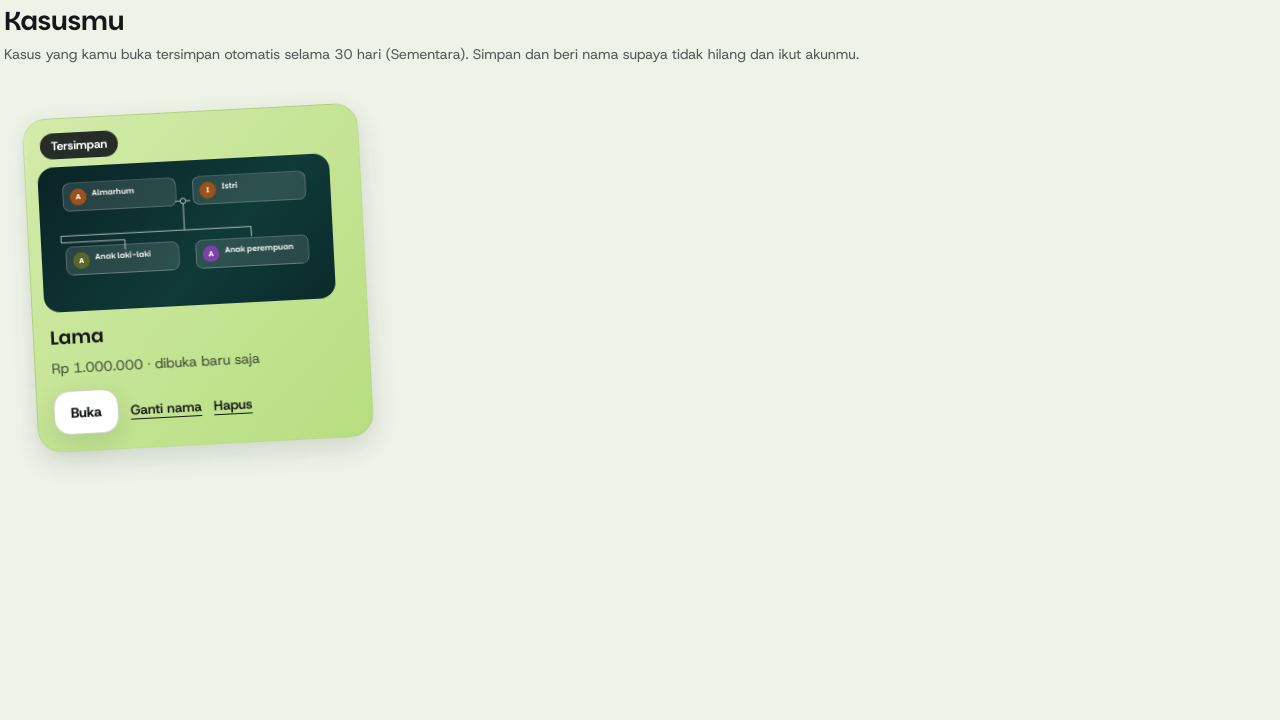
Test: Ganti nama kasus tersimpan
Click the button with aria-label "Ganti nama Lama" at (166, 408), box [130,387,203,430]
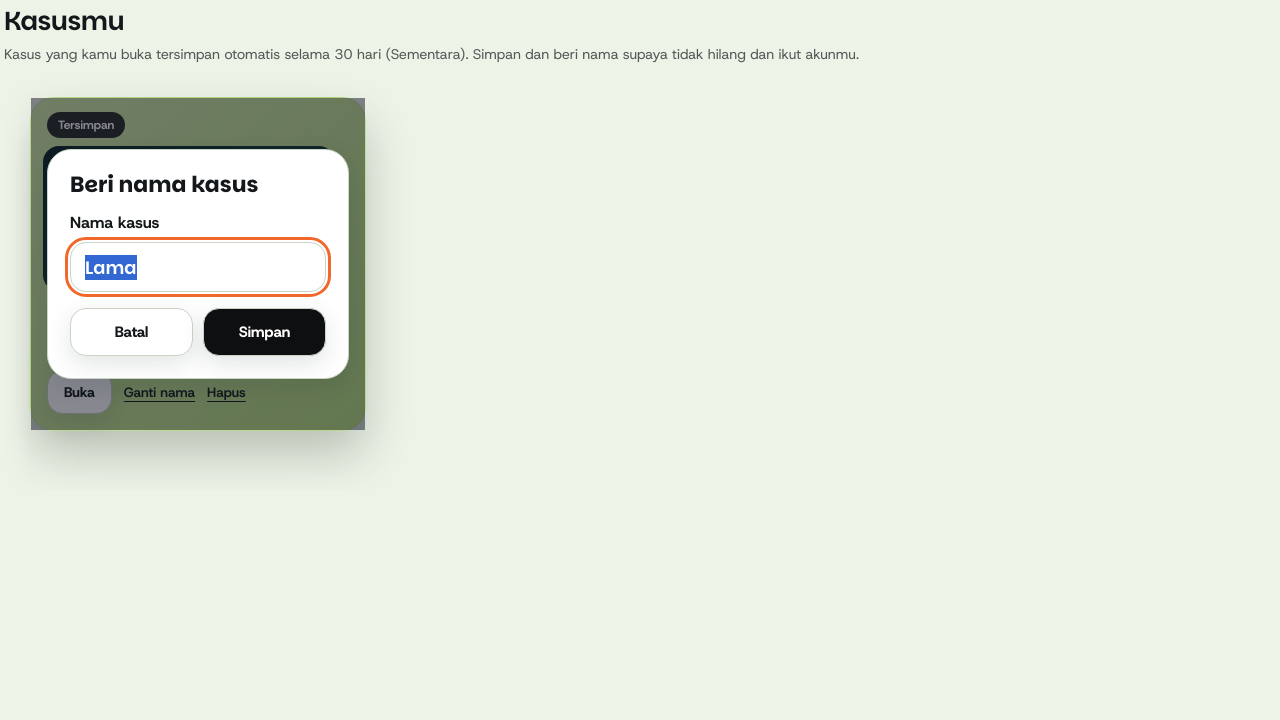
Replace the text in the field labelled "Nama kasus" with "Baru" at (198, 267), box [70,242,326,292]
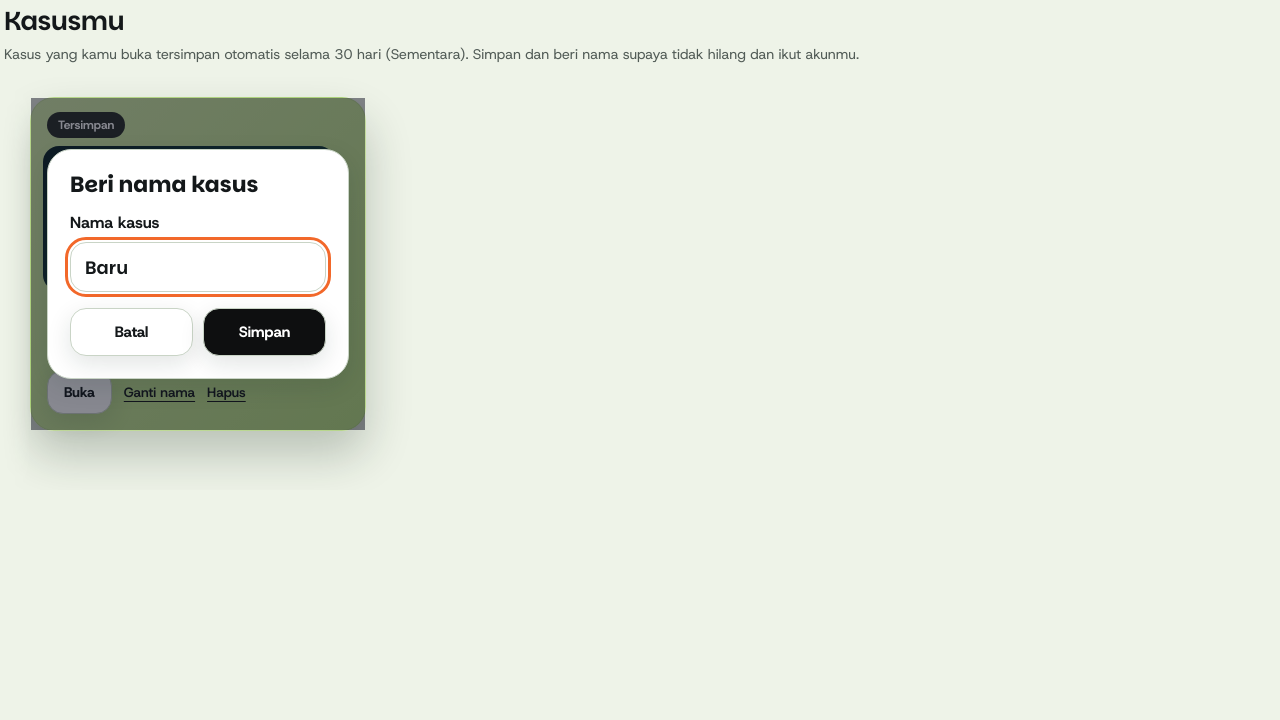
Click the button "Simpan" at (264, 332), box [203,308,326,356]
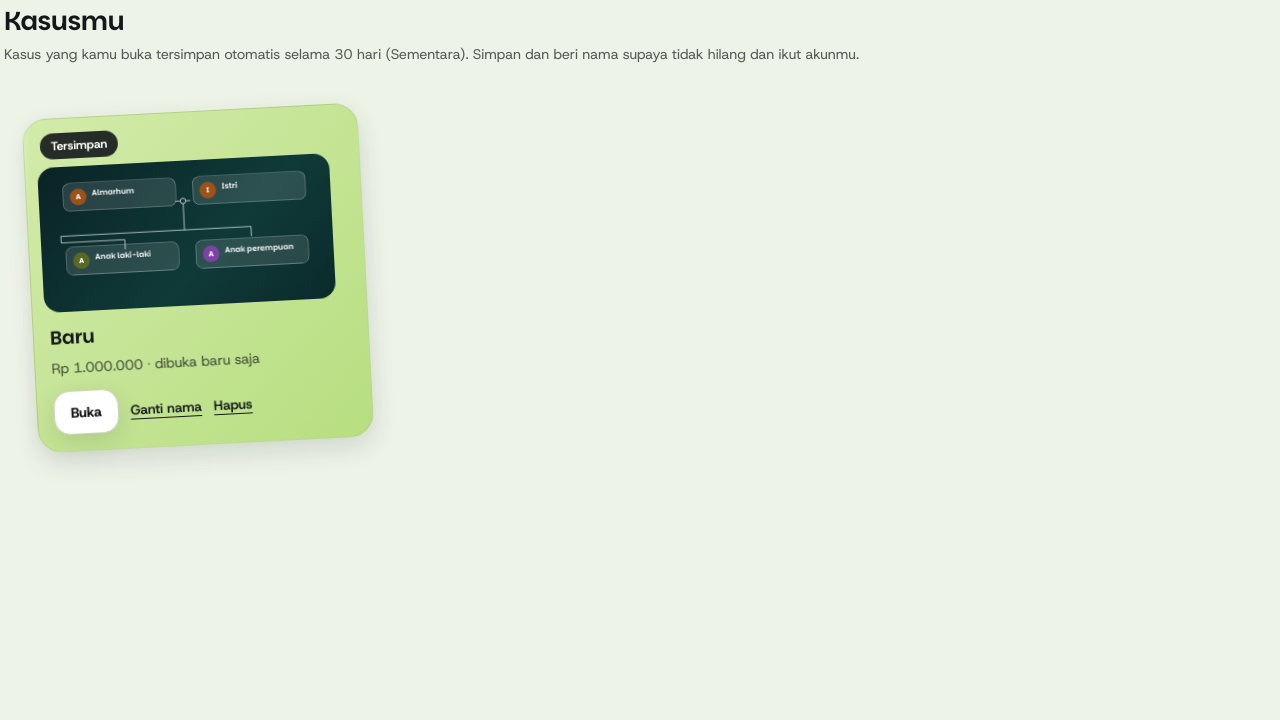
Check: the heading "Baru" is shown, box [49,322,95,352]
